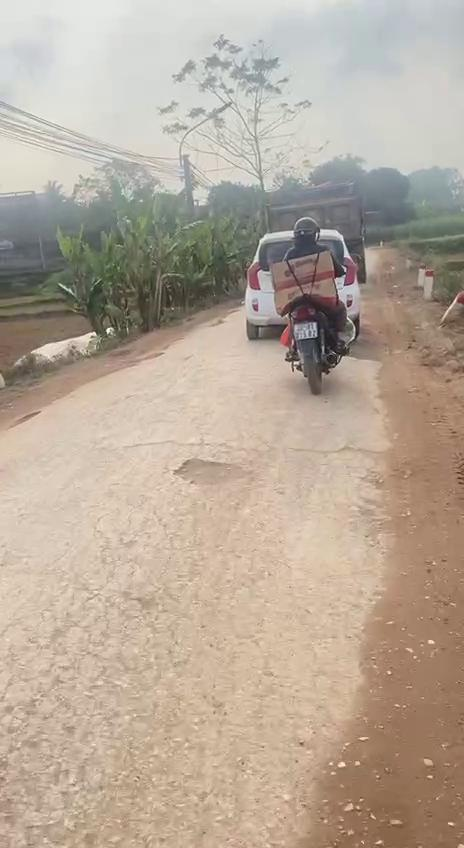pothole: (168, 454, 248, 491)
